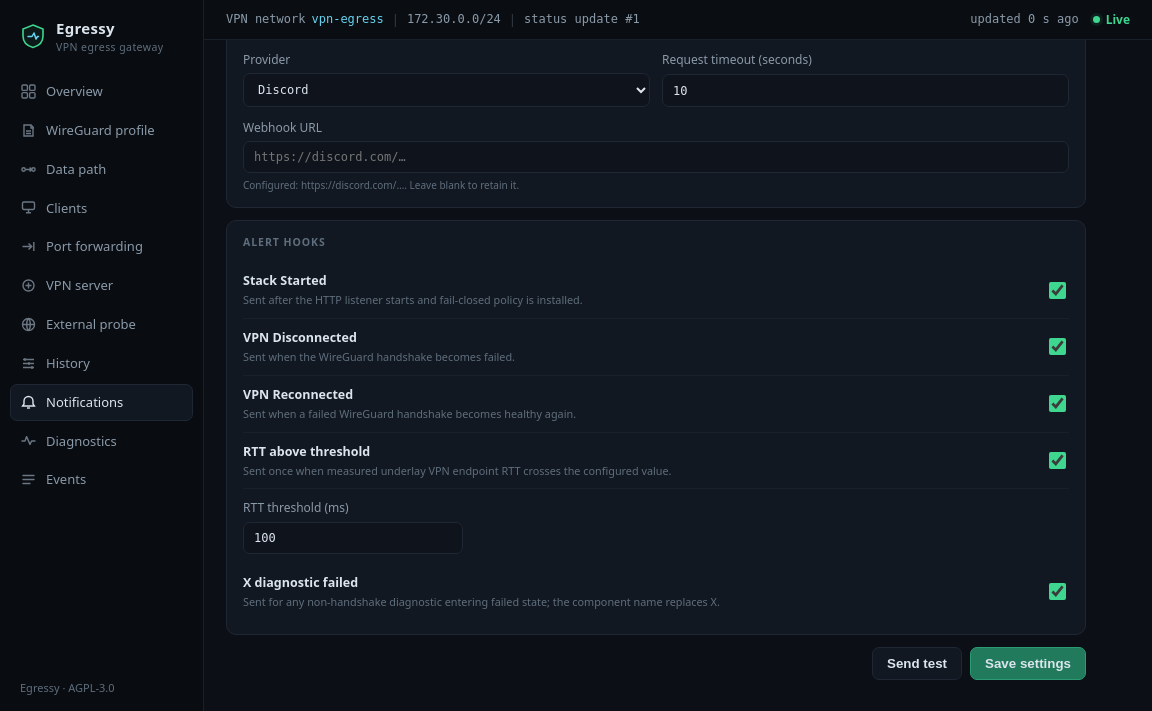
Test: edits GUI-managed Omnihook settings without rendering stored secrets
The image size is (1152, 711).
(page scrolled)
Expected: the text "Configured: https://discord.com/…. Leave blank to retain it." is shown, [243,178,519,192]
Expected: the checkbox labelled "VPN Disconnected" is checked, [1049,338,1066,355]
Replace the text in the number field labelled "RTT threshold (ms)" with "75": (353, 538) [243,522,463,554]
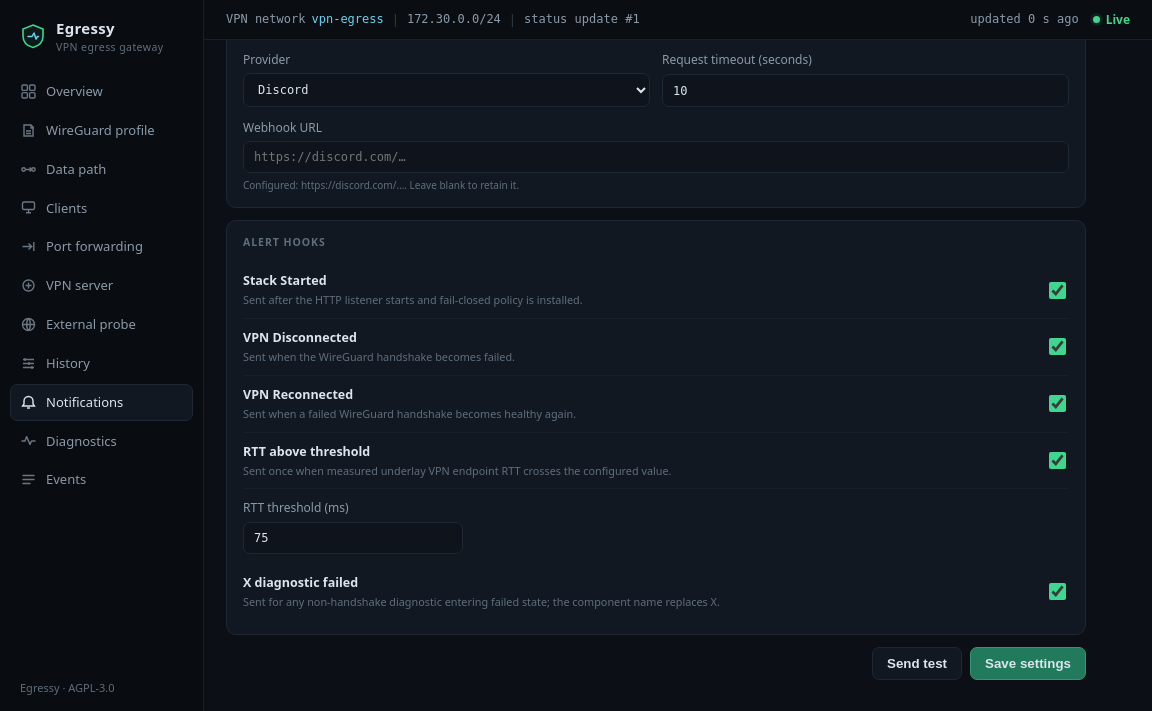
Click the button "Save settings": (1028, 663) [970,647,1086,680]
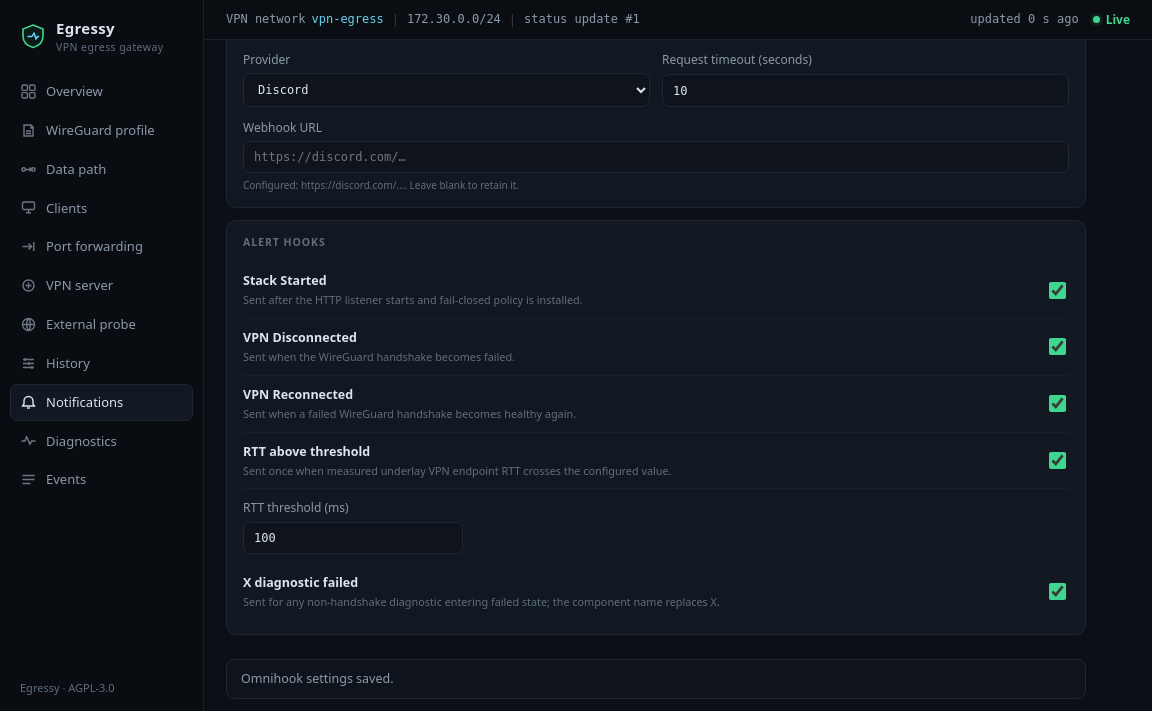
Expected: the text "Omnihook settings saved." is shown, [226,659,1086,699]
